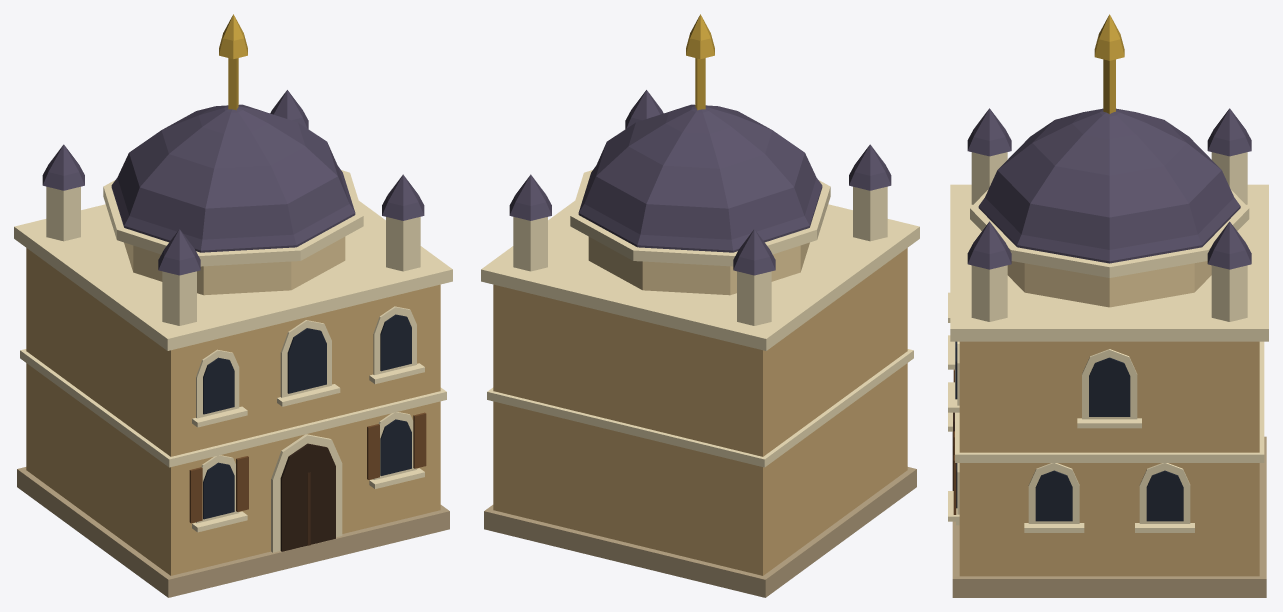
The model's file is house_08_domed_arcade.fbx.
3 renders of one model, left to right at view 1: azimuth 30°, elevation 25°; view 2: azimuth 150°, elevation 25°; view 3: azimuth 270°, elevation 25°, orthographic. The views are drawn at different scales.
Visible parts, largest first — view 1: house_08_domed_arcade; view 2: house_08_domed_arcade; view 3: house_08_domed_arcade.
Part boxes in pixels (box(x1,y1,x2,y2)): house_08_domed_arcade: box(14, 14, 452, 597); house_08_domed_arcade: box(481, 14, 919, 597); house_08_domed_arcade: box(948, 14, 1268, 597).
Bounding box in the file's own units: 7.45 × 12.25 × 6.95.
1 material, 1 textured.
